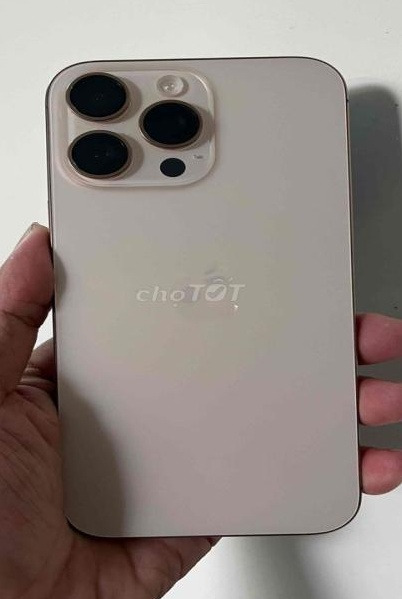scratch: (115, 127, 138, 143)
